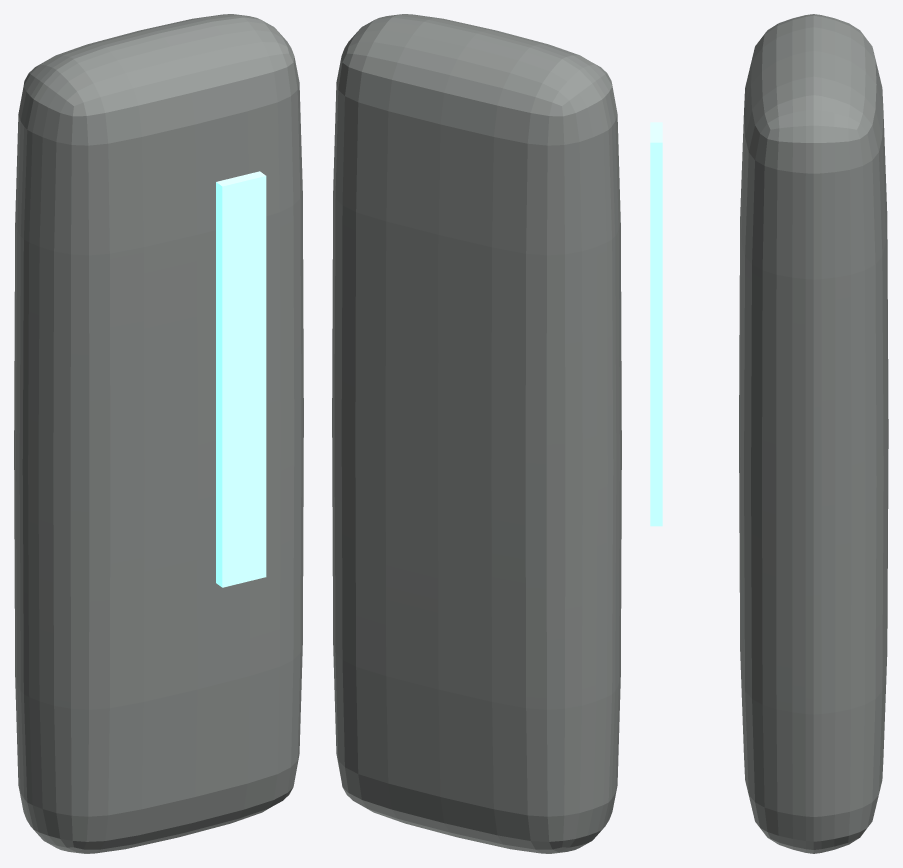
The model's file is runestone.glb.
3 views of the same model, side by side, from view 1: azimuth 30°, elevation 25°; view 2: azimuth 150°, elevation 25°; view 3: azimuth 270°, elevation 25° (orthographic). The views are drawn at different scales.
Parts seen in each view (by area): view 1: Cube, Cube.001; view 2: Cube; view 3: Cube, Cube.001.
Boxes of the visible parts, x1,y1,x2,y2 form: Cube: (14,14,303,853); Cube.001: (216,171,266,587); Cube: (332,14,621,853); Cube: (739,14,888,853); Cube.001: (650,122,662,526).
Bounding box in the file's own units: 0.4973 × 1.4 × 0.3937.
